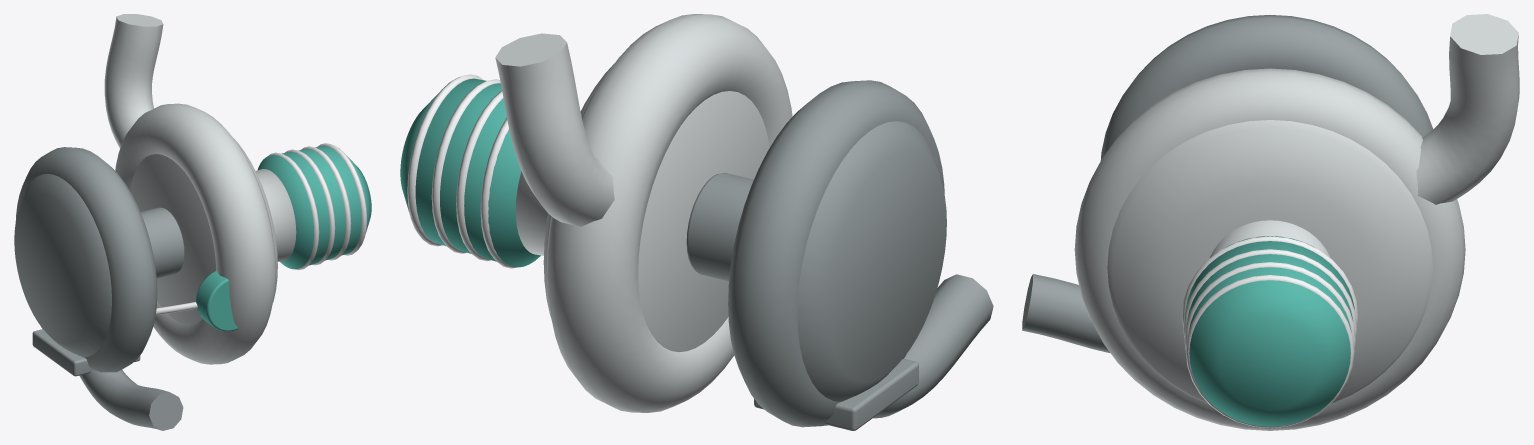
The model's file is turbo_street.fbx.
3 renders of one model, left to right at view 1: azimuth 30°, elevation 25°; view 2: azimuth 150°, elevation 25°; view 3: azimuth 270°, elevation 25°, orthographic. The views are drawn at different scales.
Visible parts, largest first — view 1: turbo_street; view 2: turbo_street; view 3: turbo_street.
Boxes of the visible parts, x1,y1,x2,y2 form: turbo_street: (14, 14, 371, 430); turbo_street: (400, 14, 993, 430); turbo_street: (1022, 14, 1519, 430).
Size of the model in its own units: 53.3 by 47.72 by 51.29.
